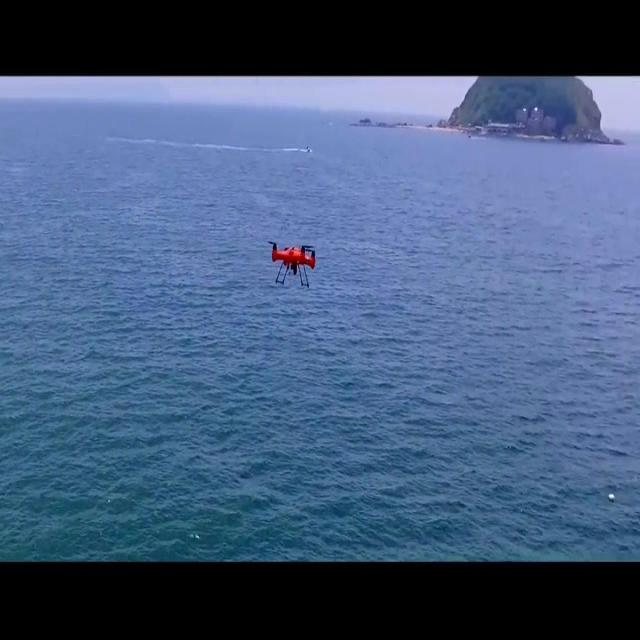UAV: (268, 242, 316, 288)
